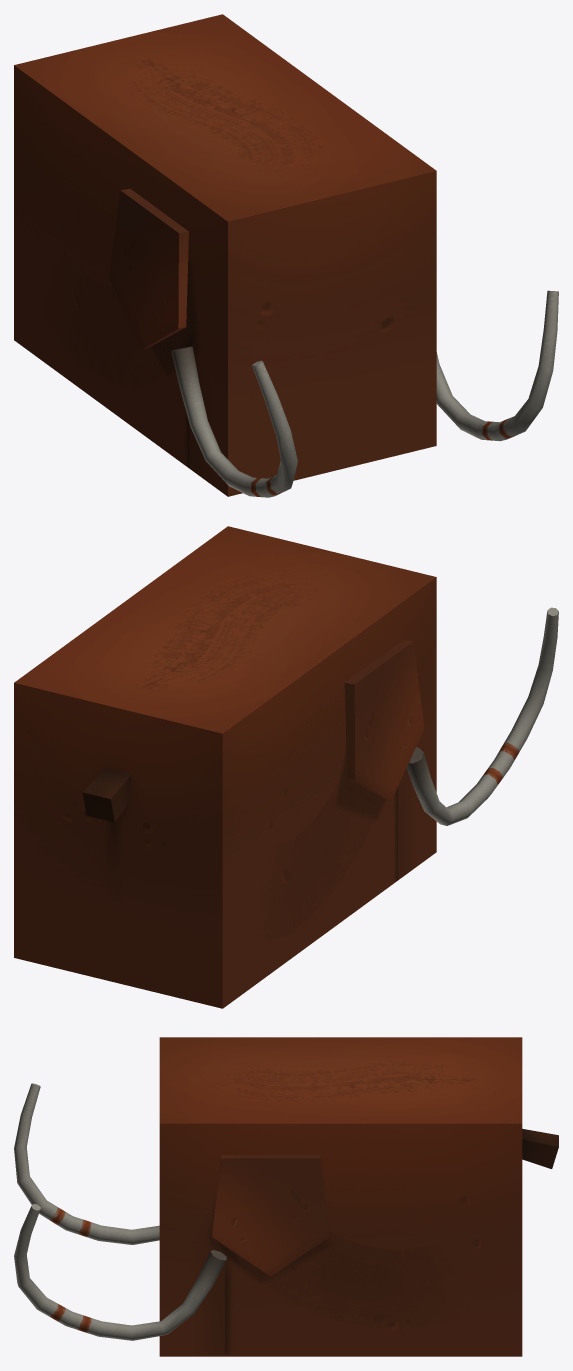
File: elephant.fbx
3 renders of one model, top to bottom at view 1: azimuth 30°, elevation 25°; view 2: azimuth 150°, elevation 25°; view 3: azimuth 270°, elevation 25°, orthographic. The views are drawn at different scales.
Visible parts, largest first — view 1: body, polySurface2, polySurface3, polySurface6; view 2: body, polySurface2, polySurface3, tail; view 3: body, polySurface5, polySurface6, polySurface3, tail.
Part boxes in pixels (box(x1,y1,x2,y2)): body: box(14, 14, 436, 496); polySurface2: box(109, 188, 188, 349); polySurface3: box(171, 346, 297, 497); polySurface6: box(436, 290, 558, 441); body: box(14, 526, 436, 1008); polySurface2: box(344, 640, 424, 800); polySurface3: box(406, 607, 558, 825); tail: box(82, 768, 131, 822); body: box(159, 1037, 522, 1356); polySurface5: box(212, 1155, 329, 1276); polySurface6: box(14, 1204, 226, 1340); polySurface3: box(14, 1083, 159, 1244); tail: box(522, 1129, 558, 1168).
Bounding box in the file's own units: 4.33 × 3.72 × 7.89.
1 material, 1 textured.
